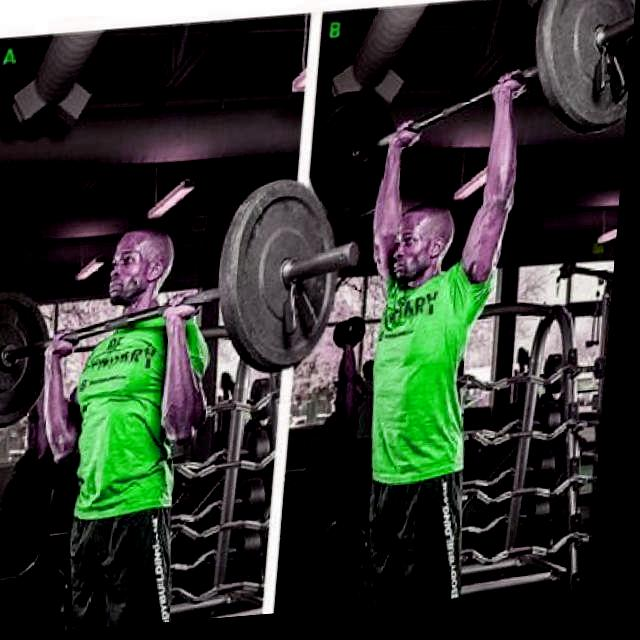barbell: (223, 178, 372, 387)
